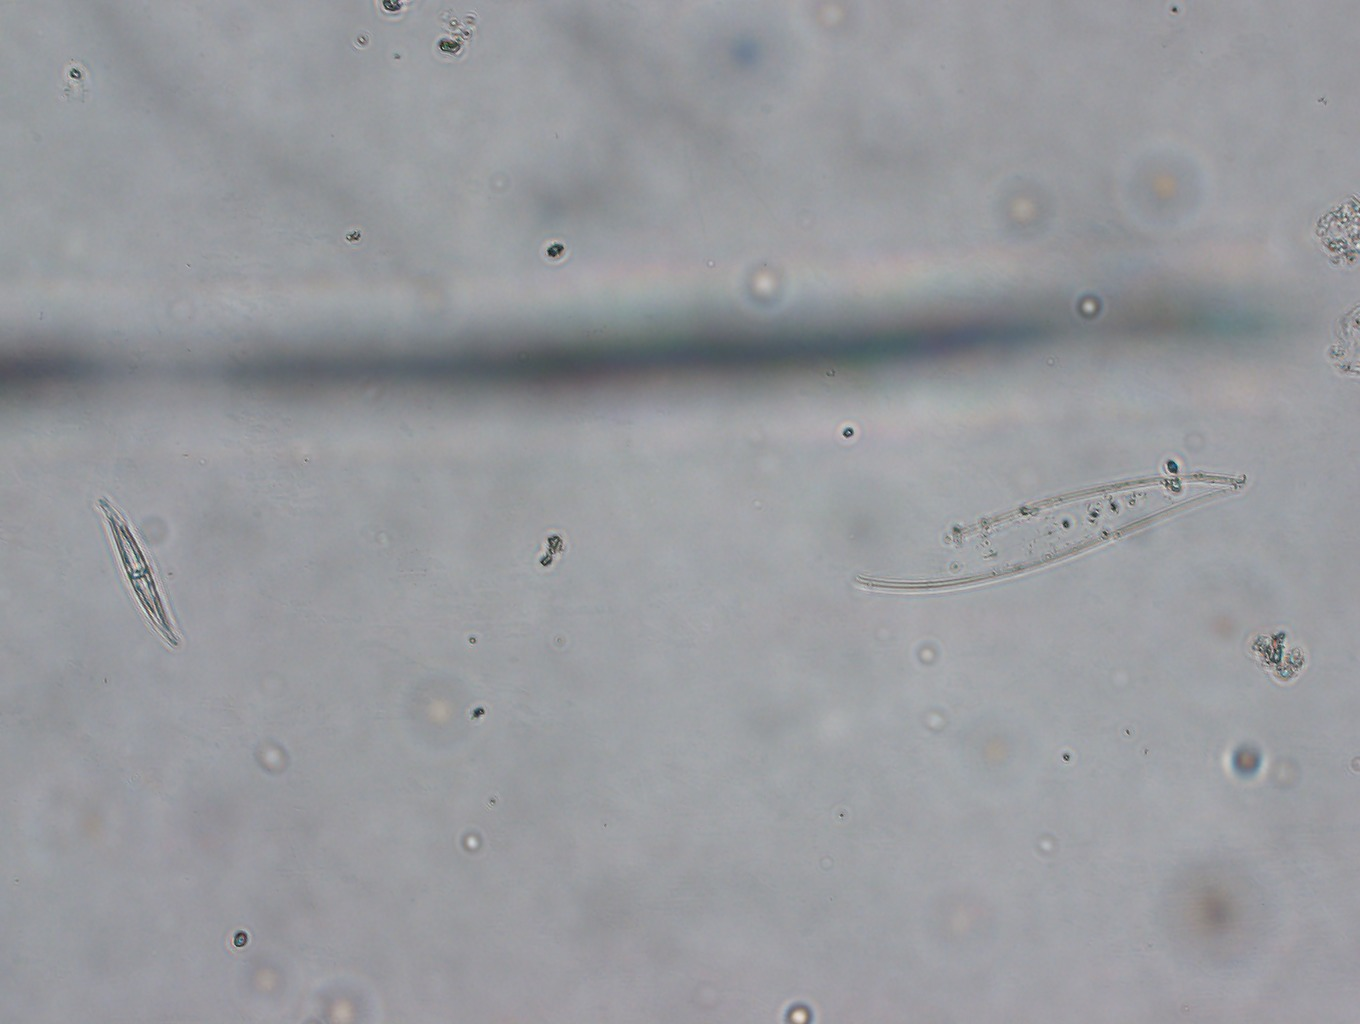pleurosigma pelagicum: (91, 490, 181, 659)
